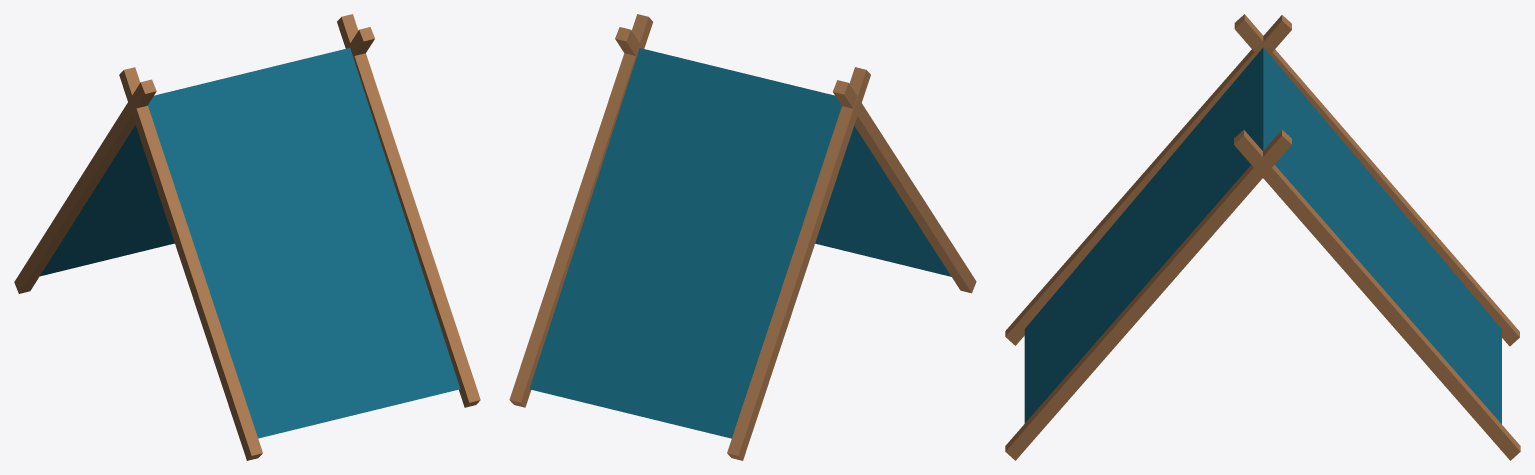
File: tent.fbx
3 views of the same model, side by side, from view 1: azimuth 30°, elevation 25°; view 2: azimuth 150°, elevation 25°; view 3: azimuth 270°, elevation 25° (orthographic). The views are drawn at different scales.
Parts seen in each view (by area): view 1: polySurface6; view 2: polySurface6; view 3: polySurface6.
Boxes of the visible parts, bbox=[...] form: polySurface6: bbox=[14, 14, 480, 460]; polySurface6: bbox=[509, 14, 976, 460]; polySurface6: bbox=[1005, 14, 1520, 460].
Size of the model in its own units: 748 by 939 by 1343.
